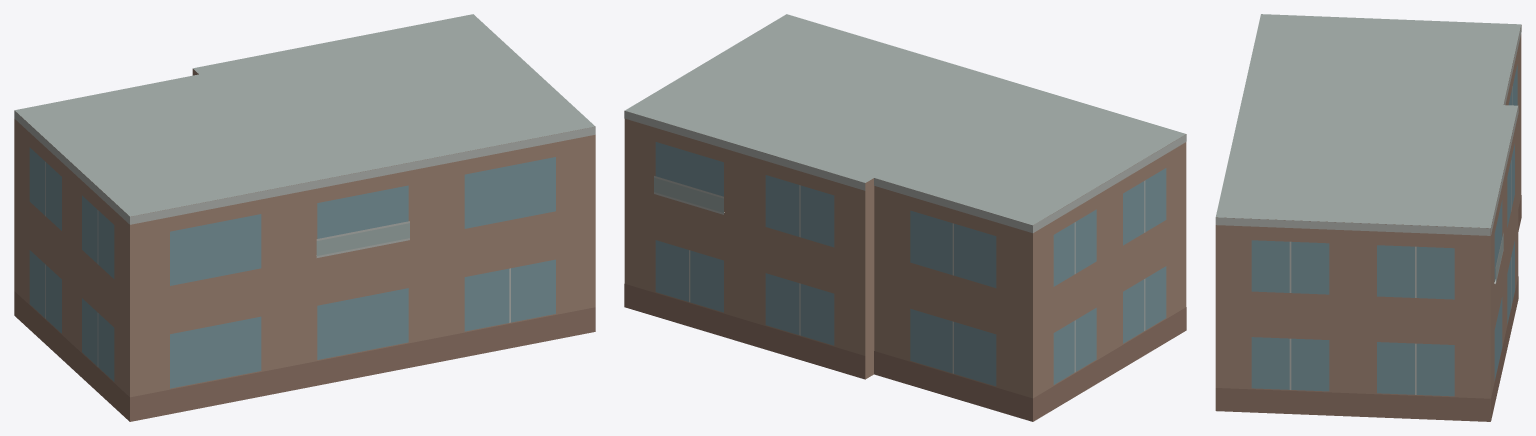
Rendered from survey-upis-33045534.glb.
The picture shows the model from 3 angles, left to right: view 1: azimuth 30°, elevation 25°; view 2: azimuth 150°, elevation 25°; view 3: azimuth 270°, elevation 25°; orthographic projection. The views are drawn at different scales.
Visible parts, largest first — view 1: survey-upis-33045534.tmp; view 2: survey-upis-33045534.tmp; view 3: survey-upis-33045534.tmp.
Part boxes in pixels (x1,y1,x2,y2): survey-upis-33045534.tmp: (14, 14, 595, 421); survey-upis-33045534.tmp: (624, 14, 1186, 421); survey-upis-33045534.tmp: (1215, 14, 1521, 421).
Size of the model in its own units: 14.48 by 6.1 by 8.74.
